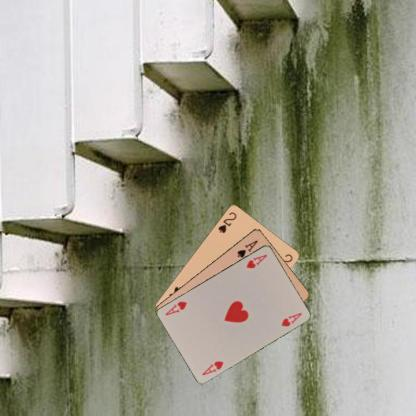2s: (216, 209, 238, 234)
Ah: (199, 358, 225, 376), (243, 252, 268, 270)
As: (234, 237, 259, 259)
